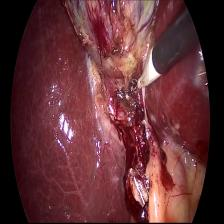Hook: (134, 47, 164, 96)
